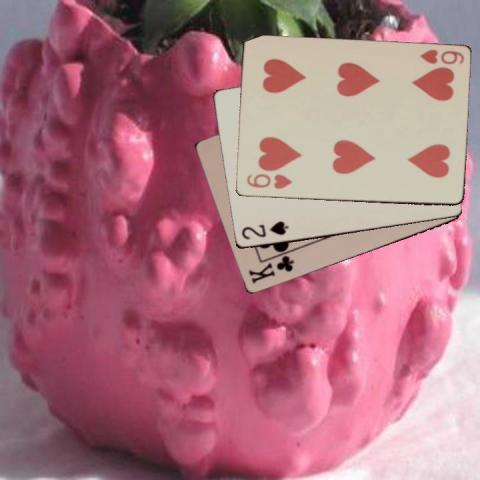2s: (239, 218, 290, 241)
6h: (243, 170, 294, 190), (416, 47, 465, 66)
Kc: (246, 253, 296, 286)
